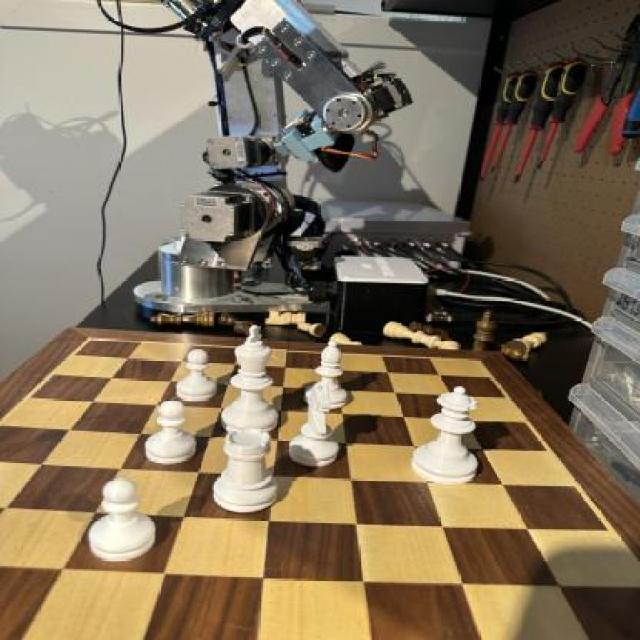black-rook: (308, 340, 354, 413)
white-bishop: (220, 321, 287, 434)
white-king: (293, 386, 352, 471)
white-knight: (91, 477, 157, 566), (143, 397, 200, 465), (168, 348, 224, 404)
white-pawn: (414, 386, 493, 491)
white-queen: (212, 428, 286, 504)
